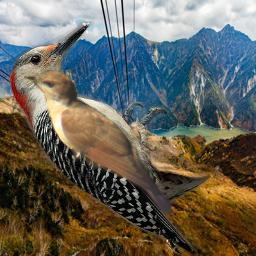Cuckoo: (24, 70, 171, 215)
Swallow: (166, 239, 183, 256)
Woodpecker: (8, 21, 211, 256)
